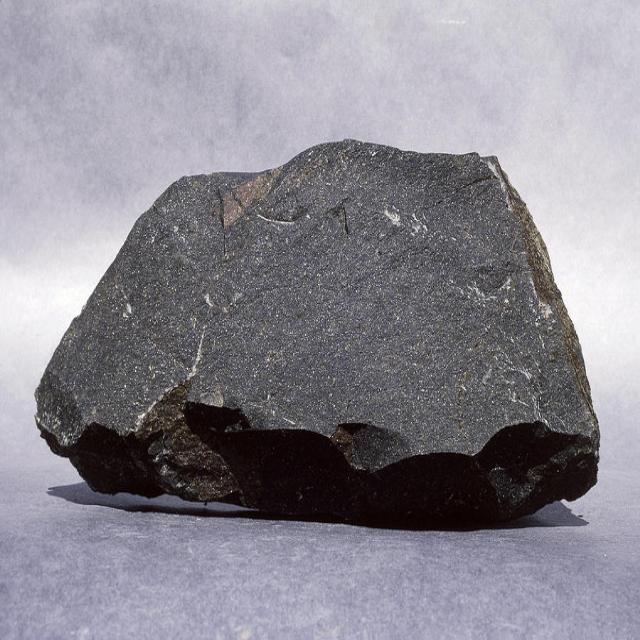Metamorphic: (28, 136, 612, 533)
